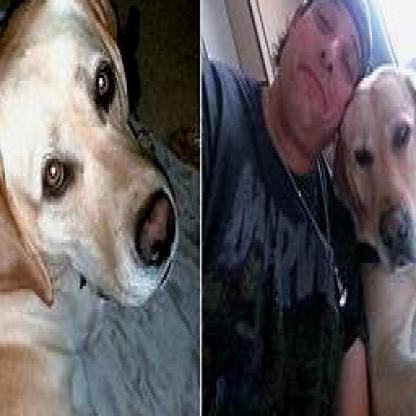dog: (0, 0, 184, 413), (330, 67, 414, 413)
